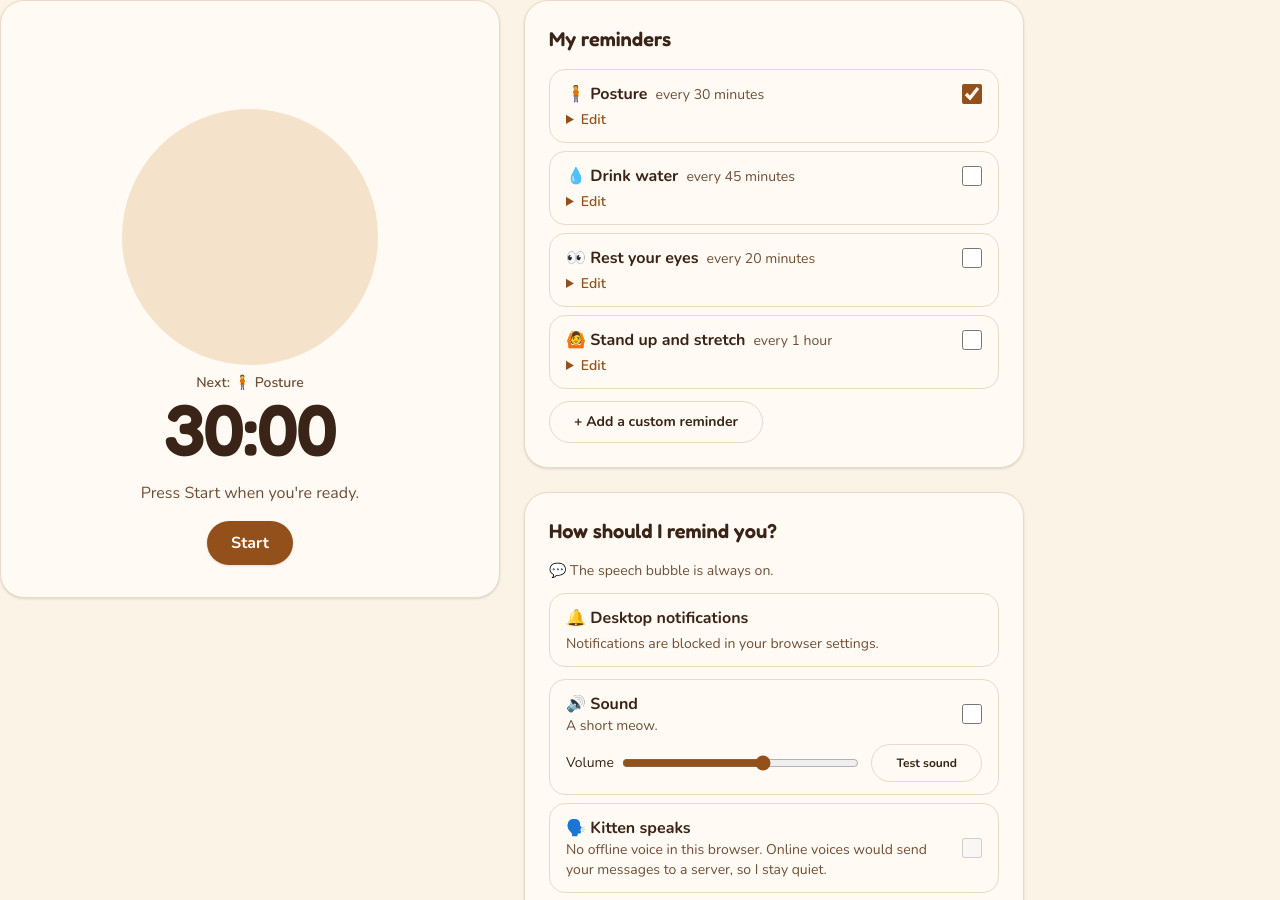
Test: several reminders › starts a reminder right away when it is turned on during a session
This screenshot has width=1280, height=900.
Click the button "Start".
click(250, 543)  # box [207,521,293,565]
Wait 300000 ms
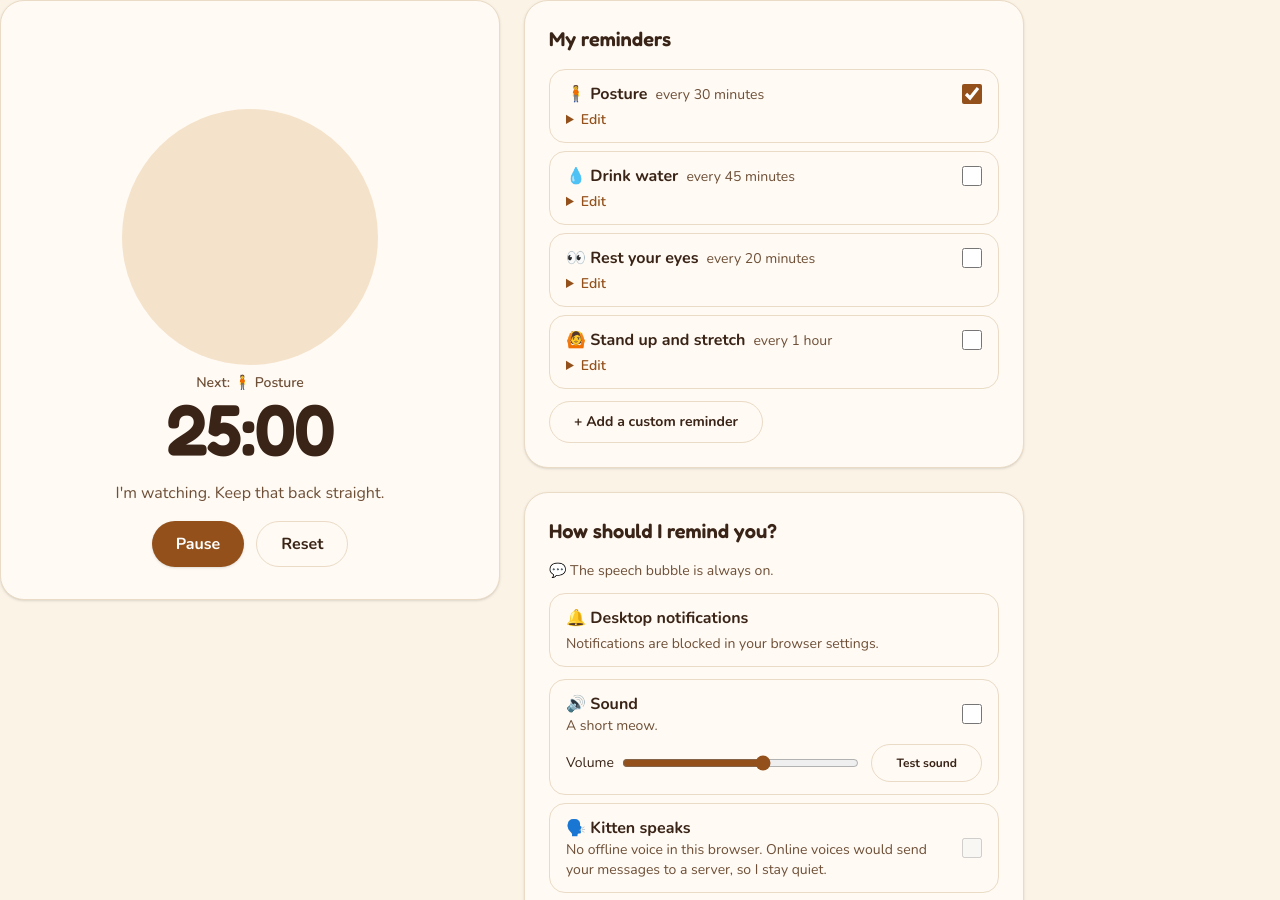
Click the switch named "Drink water on".
click(972, 176)  # box [962,166,982,186]
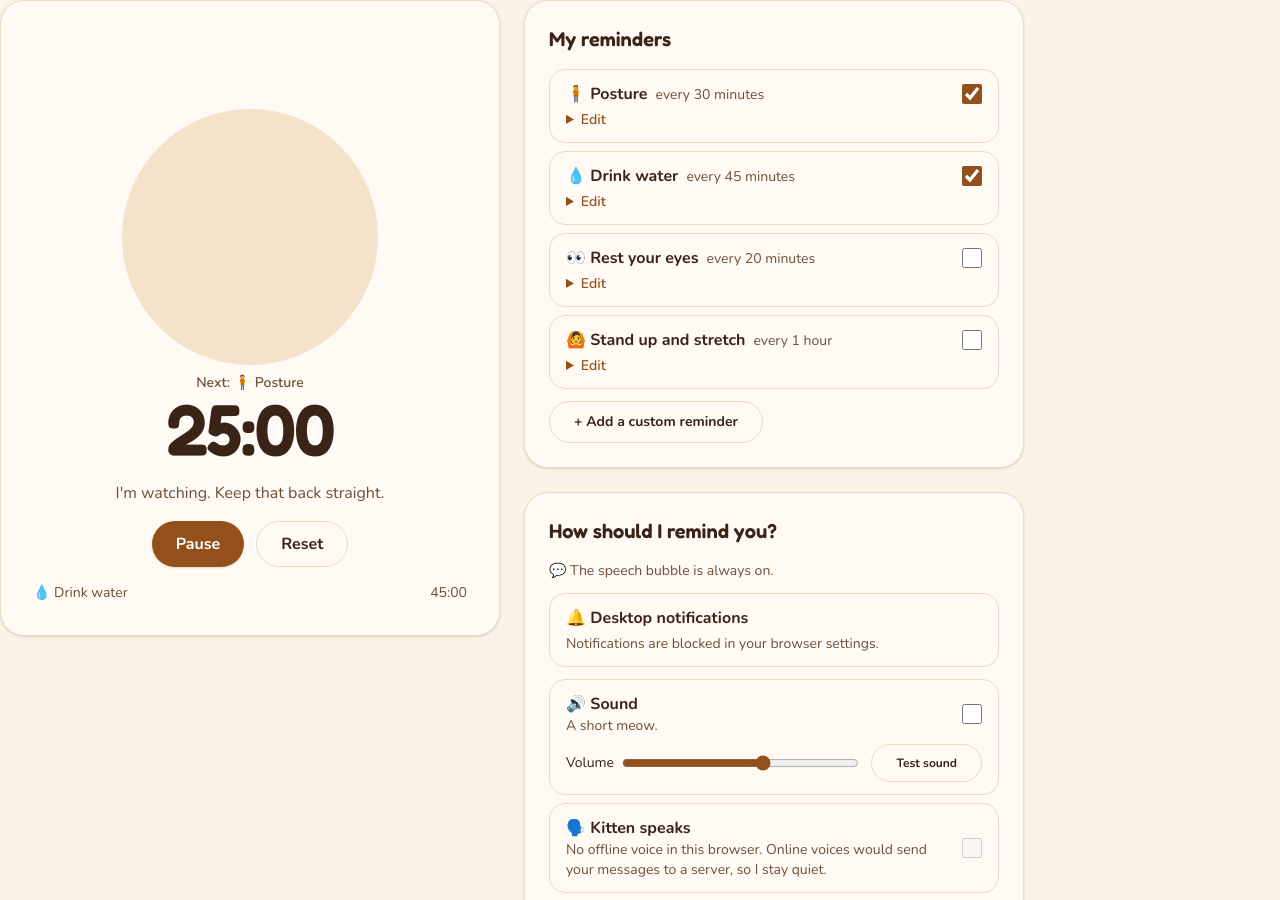
Check: the text with test id "upcoming-water" reads "45:00", box [430,583,467,602]
